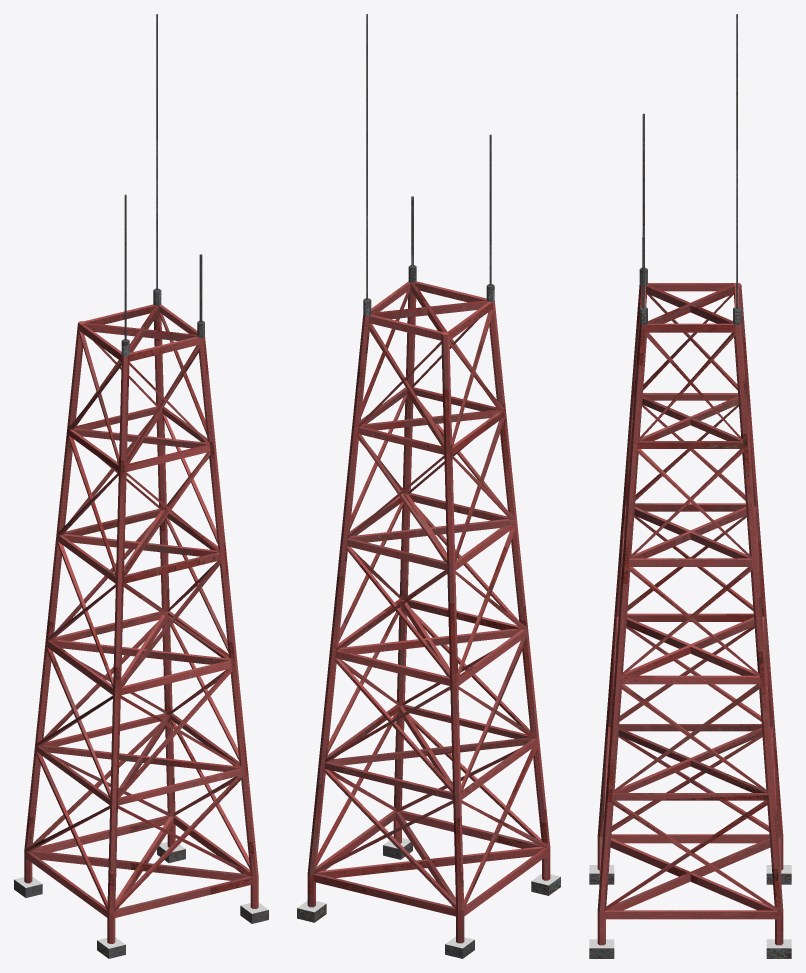
The model's file is comm tower.fbx.
3 renders of one model, left to right at view 1: azimuth 30°, elevation 25°; view 2: azimuth 150°, elevation 25°; view 3: azimuth 270°, elevation 25°, orthographic. The views are drawn at different scales.
Parts seen in each view (by area): view 1: Cube; view 2: Cube; view 3: Cube.
Part boxes in pixels (x1,y1,x2,y2): Cube: [14, 14, 268, 958]; Cube: [297, 14, 560, 958]; Cube: [589, 14, 791, 958].
Size of the model in its own units: 2354 by 12160 by 2417.
